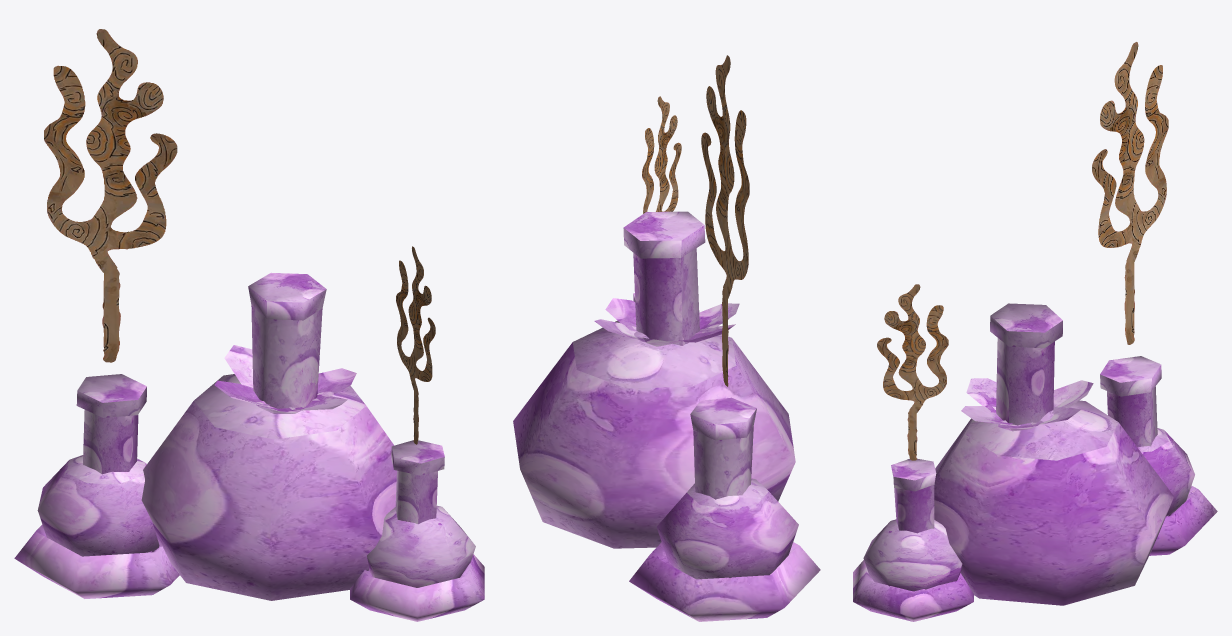
Rendered from pm-flower-02-b.glb.
3 views of the same model, side by side, from view 1: azimuth 30°, elevation 25°; view 2: azimuth 150°, elevation 25°; view 3: azimuth 270°, elevation 25° (orthographic). The views are drawn at different scales.
Parts seen in each view (by area): view 1: Flower_02_b_Art; view 2: Flower_02_b_Art; view 3: Flower_02_b_Art.
Part boxes in pixels (x1,y1,x2,y2): Flower_02_b_Art: (14,29,484,621); Flower_02_b_Art: (513,55,820,621); Flower_02_b_Art: (853,42,1217,621).
Size of what is drawn, in the model's own units: 0.4914 by 0.7849 by 0.5256.
2 materials, 2 textured.
